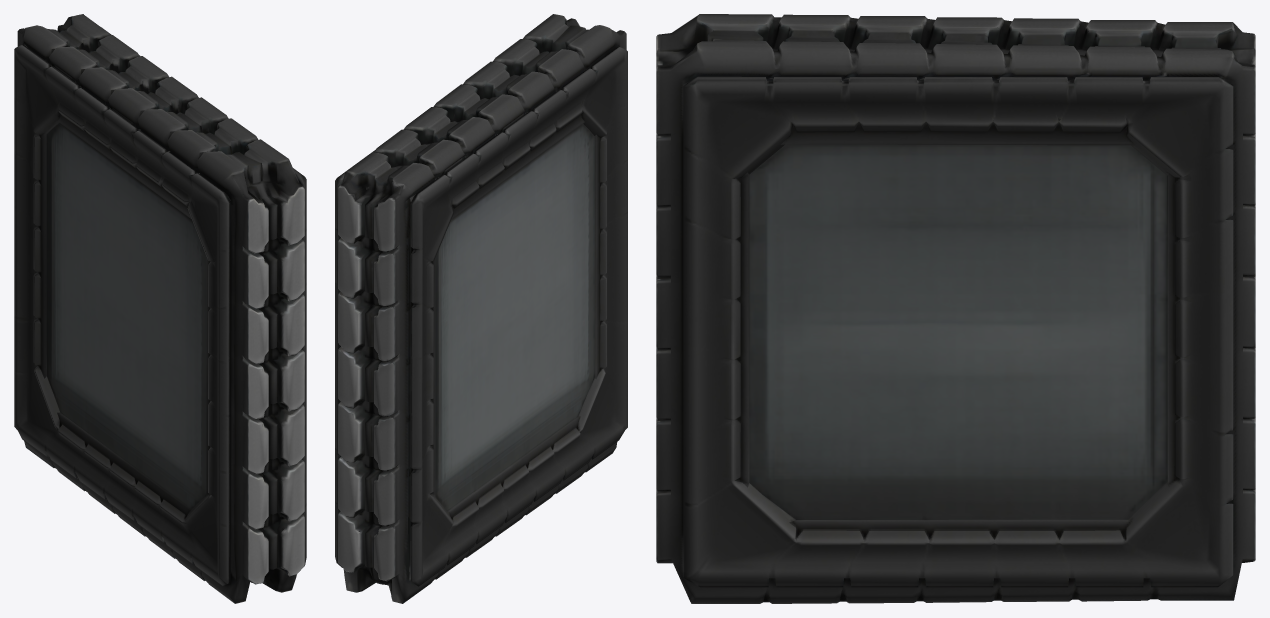
The model's file is tank+track+segment+3d+model.fbx.
3 views of the same model, side by side, from view 1: azimuth 30°, elevation 25°; view 2: azimuth 150°, elevation 25°; view 3: azimuth 270°, elevation 25° (orthographic). The views are drawn at different scales.
Visible parts, largest first — view 1: f0e39f36_3271_4437_8635_604ba025e425; view 2: f0e39f36_3271_4437_8635_604ba025e425; view 3: f0e39f36_3271_4437_8635_604ba025e425.
Boxes of the visible parts, x1,y1,x2,y2 form: f0e39f36_3271_4437_8635_604ba025e425: (14, 14, 306, 603); f0e39f36_3271_4437_8635_604ba025e425: (335, 14, 627, 603); f0e39f36_3271_4437_8635_604ba025e425: (656, 14, 1255, 603).
Bounding box in the file's own units: 0.2124 × 0.9995 × 0.98.
1 material, 1 textured.
